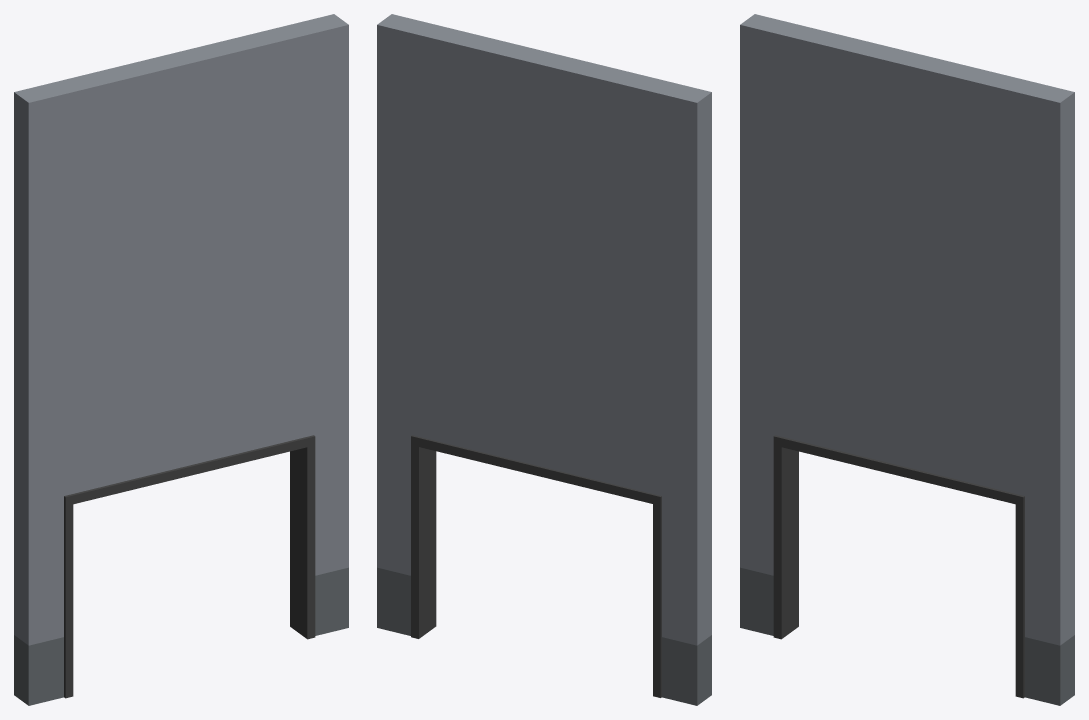
File: Wall3_06.fbx
3 renders of one model, left to right at view 1: azimuth 30°, elevation 25°; view 2: azimuth 150°, elevation 25°; view 3: azimuth 330°, elevation 25°, orthographic.
Visible parts, largest first — view 1: Wall3_06; view 2: Wall3_06; view 3: Wall3_06.
Part boxes in pixels (<box>): Wall3_06: <box>14,14,348,705</box>; Wall3_06: <box>377,14,711,705</box>; Wall3_06: <box>740,14,1074,705</box>.
Size of the model in its own units: 500 by 900 by 47.66.
